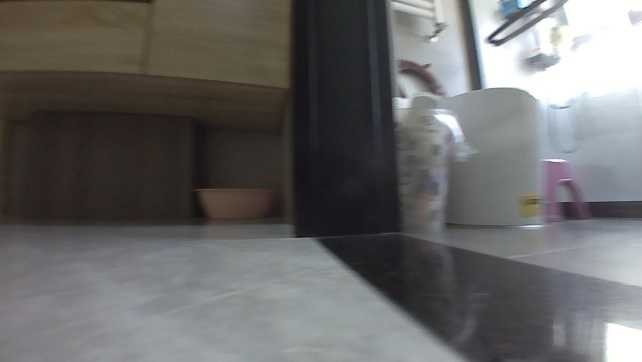door_sill: (319, 230, 641, 361)
toilet: (425, 85, 547, 228)
